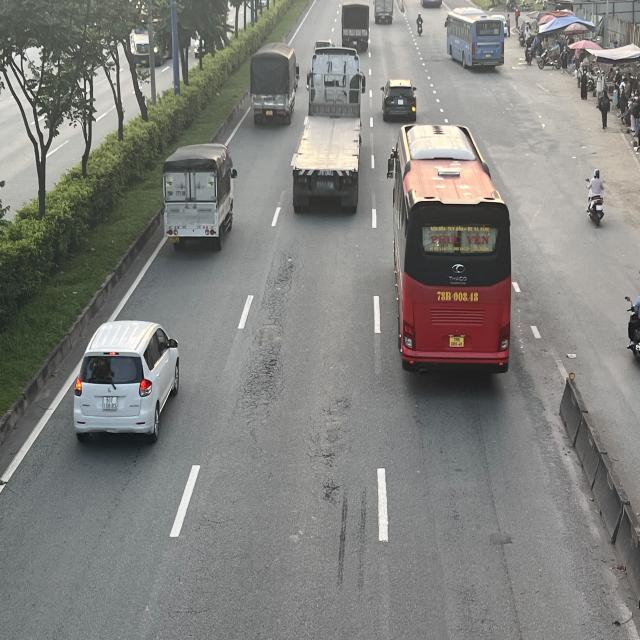car: (72, 314, 181, 442), (381, 77, 418, 121)
coach: (387, 122, 512, 374), (443, 5, 505, 69)
container: (292, 46, 365, 212)
truck: (163, 142, 238, 248), (250, 42, 301, 122), (340, 1, 370, 50), (374, 0, 394, 28)
